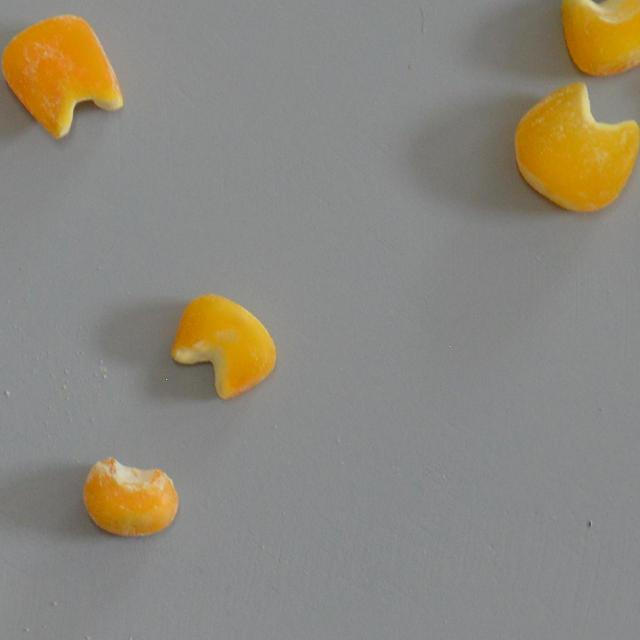no_canjicado: (170, 294, 278, 401)
pelicula: (512, 82, 640, 215), (0, 14, 123, 138), (82, 454, 177, 538), (557, 0, 640, 76)
